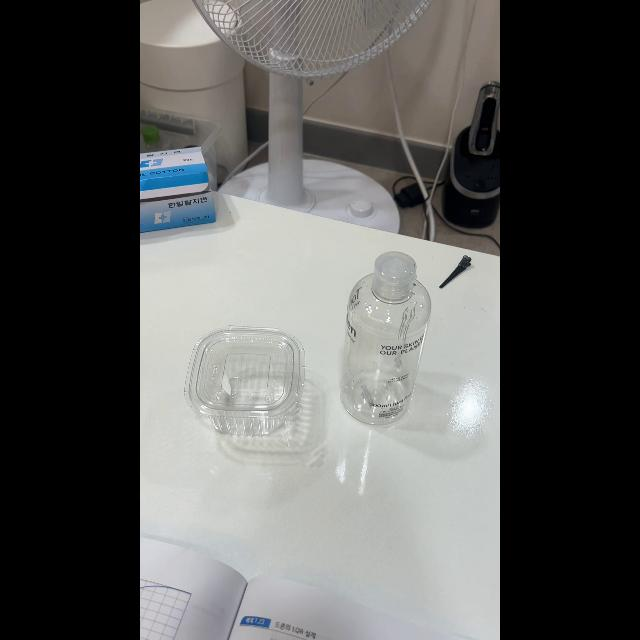clean: (341, 256, 432, 424), (186, 328, 304, 436)
